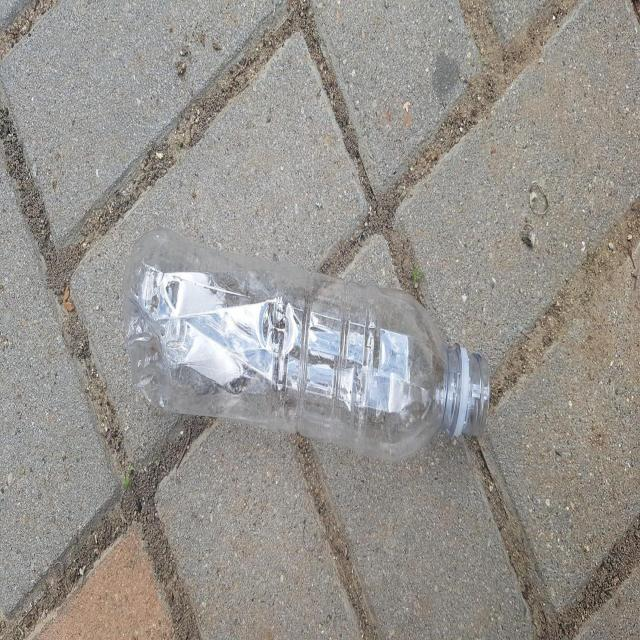plastic: (122, 227, 491, 460)
